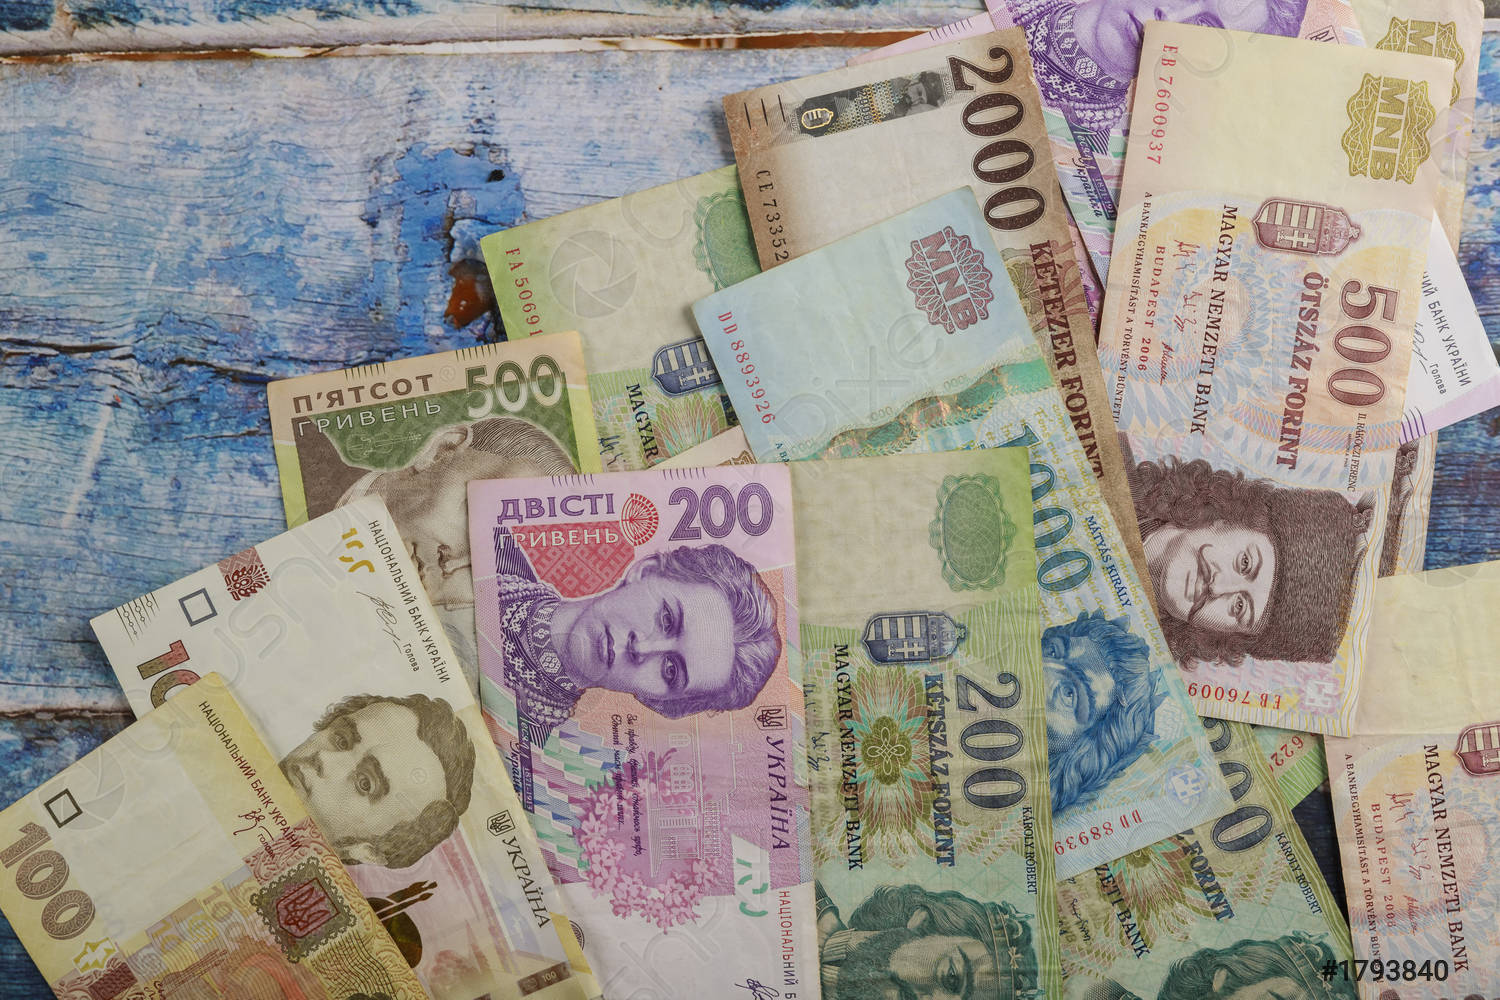bn_100: (116, 526, 652, 1000), (18, 739, 348, 1000)
bn_200: (472, 469, 828, 999)
bn_500: (265, 349, 607, 527)
